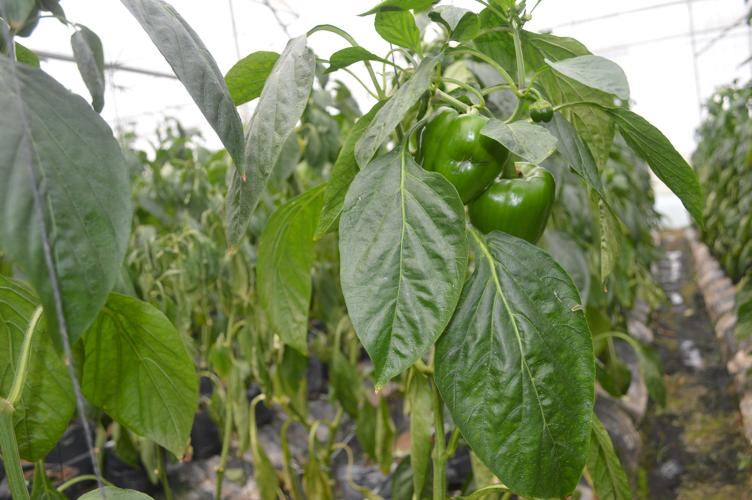BellPepper: (416, 114, 507, 205), (470, 163, 555, 242)
